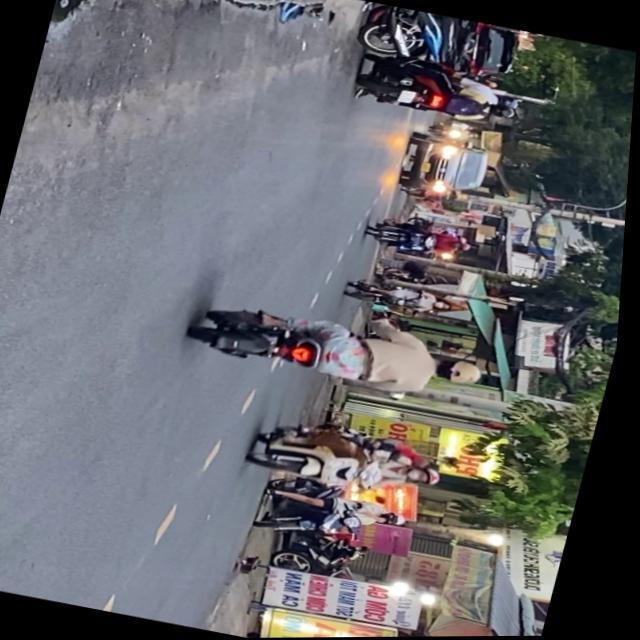helmet: (438, 356, 492, 390), (412, 465, 452, 490), (490, 103, 521, 122), (386, 511, 416, 529), (495, 94, 524, 111)
licenseplate: (186, 288, 500, 412), (247, 413, 460, 509), (350, 49, 531, 133), (256, 472, 423, 558)
nohelmet: (399, 90, 418, 105)
